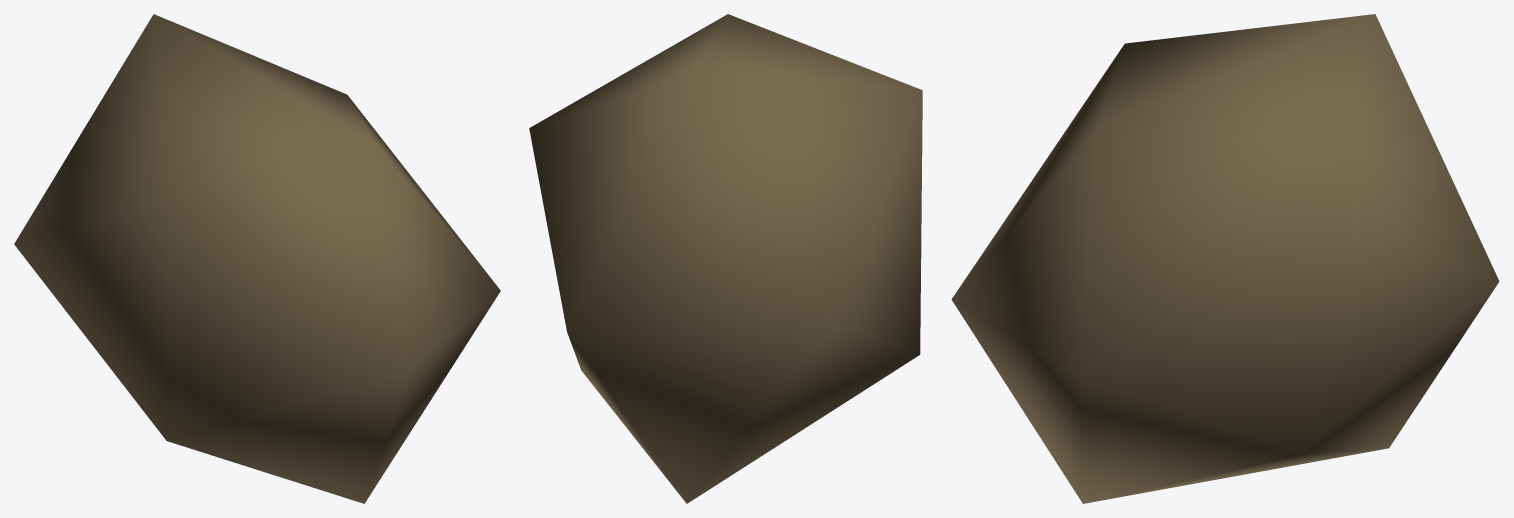
The model's file is G_dirt_01.fbx.
3 renders of one model, left to right at view 1: azimuth 30°, elevation 25°; view 2: azimuth 150°, elevation 25°; view 3: azimuth 270°, elevation 25°, orthographic. The views are drawn at different scales.
Parts seen in each view (by area): view 1: lod1; view 2: lod1; view 3: lod1.
Part boxes in pixels (x1=…): lod1: x1=14, y1=14, x2=500, y2=503; lod1: x1=529, y1=14, x2=922, y2=503; lod1: x1=951, y1=14, x2=1499, y2=503.
Bounding box in the file's own units: 5.27 × 5.9 × 6.53.
1 material, 1 textured.
